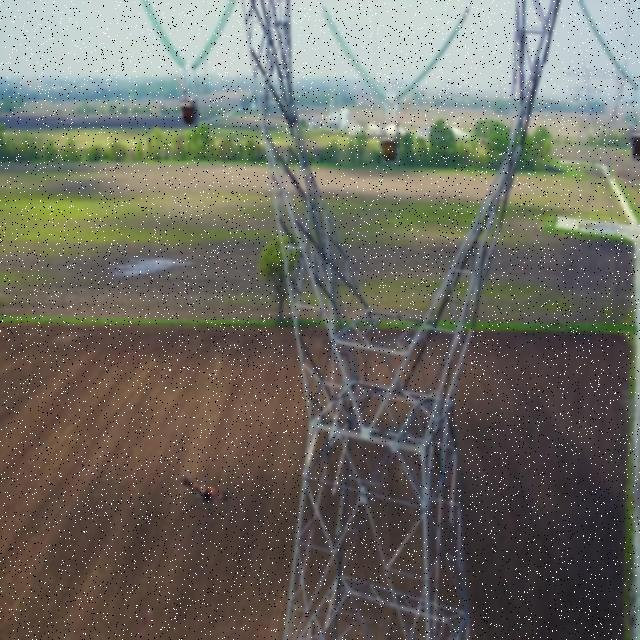UAV: (178, 477, 228, 518)
